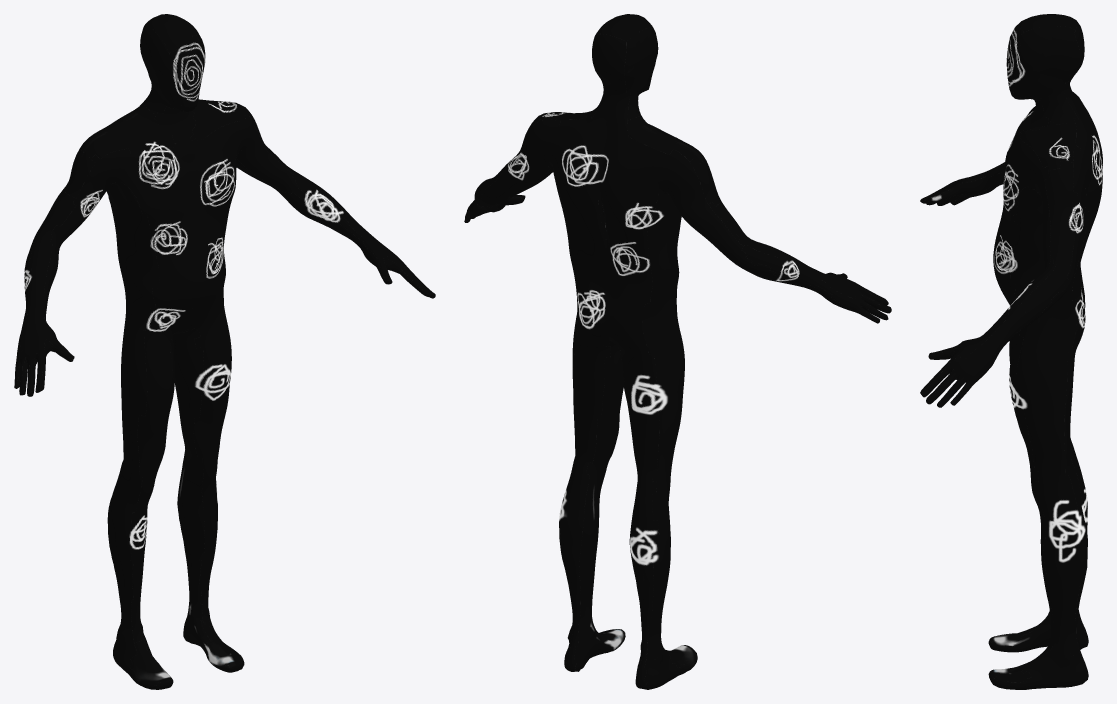
File: spot-spider.glb
3 renders of one model, left to right at view 1: azimuth 30°, elevation 25°; view 2: azimuth 150°, elevation 25°; view 3: azimuth 270°, elevation 25°, orthographic.
Visible parts, largest first — view 1: The Spot.001, The Spot.002; view 2: The Spot.001, The Spot.002; view 3: The Spot.001, The Spot.002.
Boxes of the visible parts, box(x1,y1,x2,y2) form: The Spot.001: box(14, 99, 435, 689); The Spot.002: box(134, 14, 205, 131); The Spot.001: box(464, 111, 891, 689); The Spot.002: box(586, 14, 658, 137); The Spot.001: box(920, 92, 1102, 689); The Spot.002: box(1006, 14, 1085, 126).
Bounding box in the file's own units: 0.0431 × 0.064 × 0.0163.
2 materials, 2 textured.
